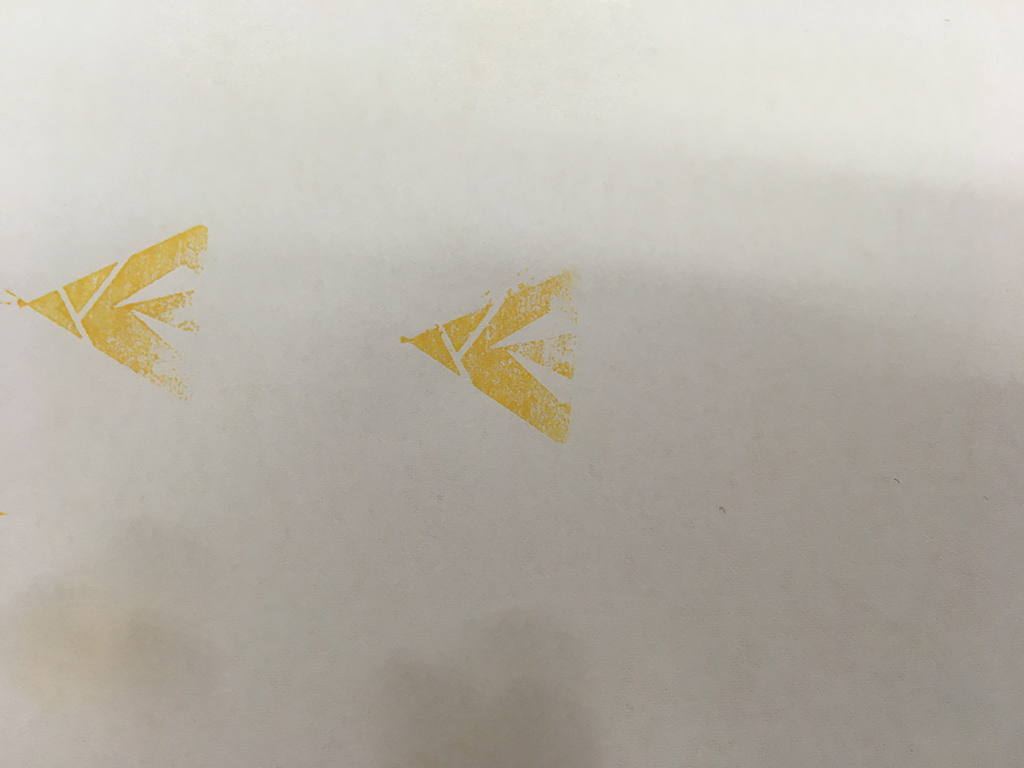tent: (1, 213, 228, 431), (386, 242, 596, 456)
